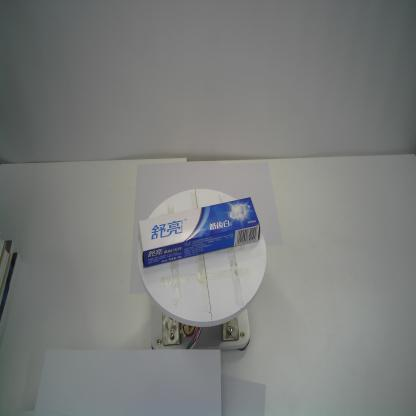Personal Hygiene: (138, 195, 263, 269)
